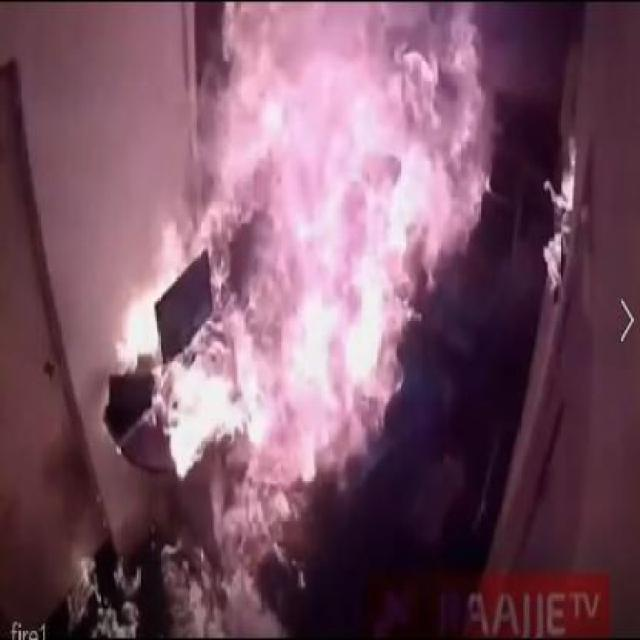Fire: (186, 0, 502, 271), (113, 209, 311, 638), (285, 268, 404, 476), (544, 133, 574, 292), (68, 552, 117, 636)
